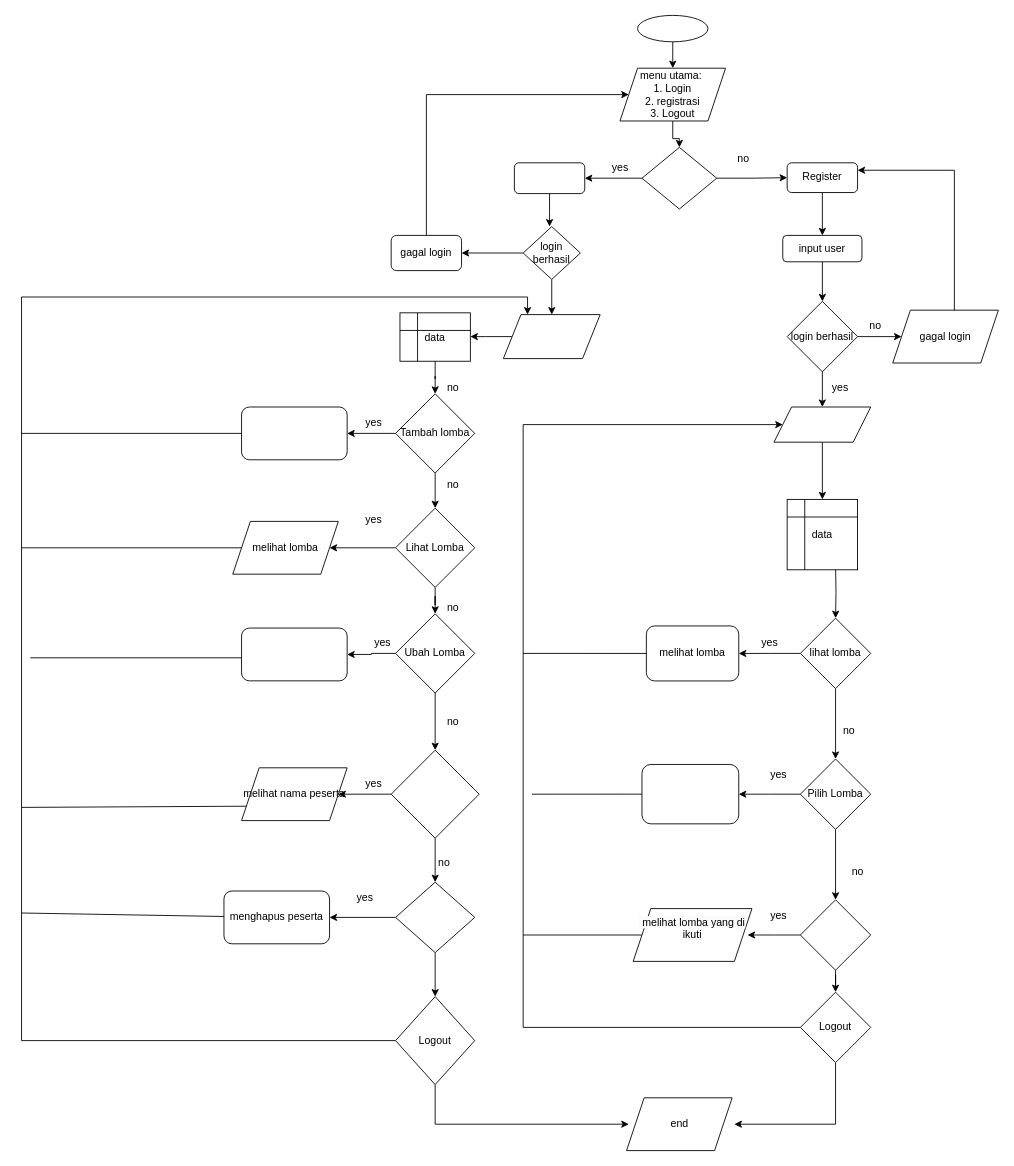
Some shapes in this 1014 by 1166 pixel diagram are drawn without their labels. The centre of each missing label's shape, as x and y in pixels:
"Hapus peserta Lomba" belongs at point 435,917.
"input login admin" belongs at point 549,178.
"Lihat lomba yang di ikuti" belongs at point 835,934.
"Lihat Peserta Lomba" belongs at point 434,793.
"login" belongs at point 679,178.
"memilih lomba" belongs at point 690,794.
"menambah lomba" belongs at point 294,433.
"mengubah lomba" belongs at point 294,654.
"menu admin" belongs at point 551,336.
"menu user" belongs at point 822,424.
"start" belongs at point 672,28.
